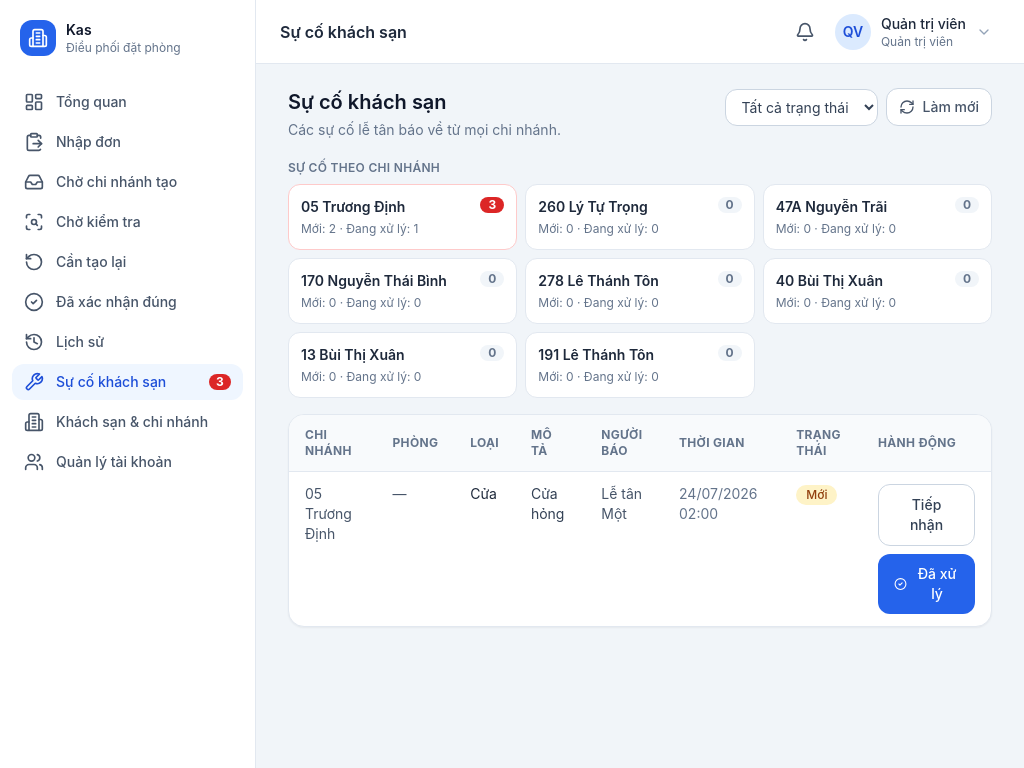
Test: Issue counters — admin branch cards + filter › clicking a branch card filters the list, and the filter can be cleared
The width and height of the screenshot is (1024, 768).
Click the button with aria-label "3 sự cố chưa xử lý tại 05 Trương Định" at (403, 217), box [288, 184, 517, 250]
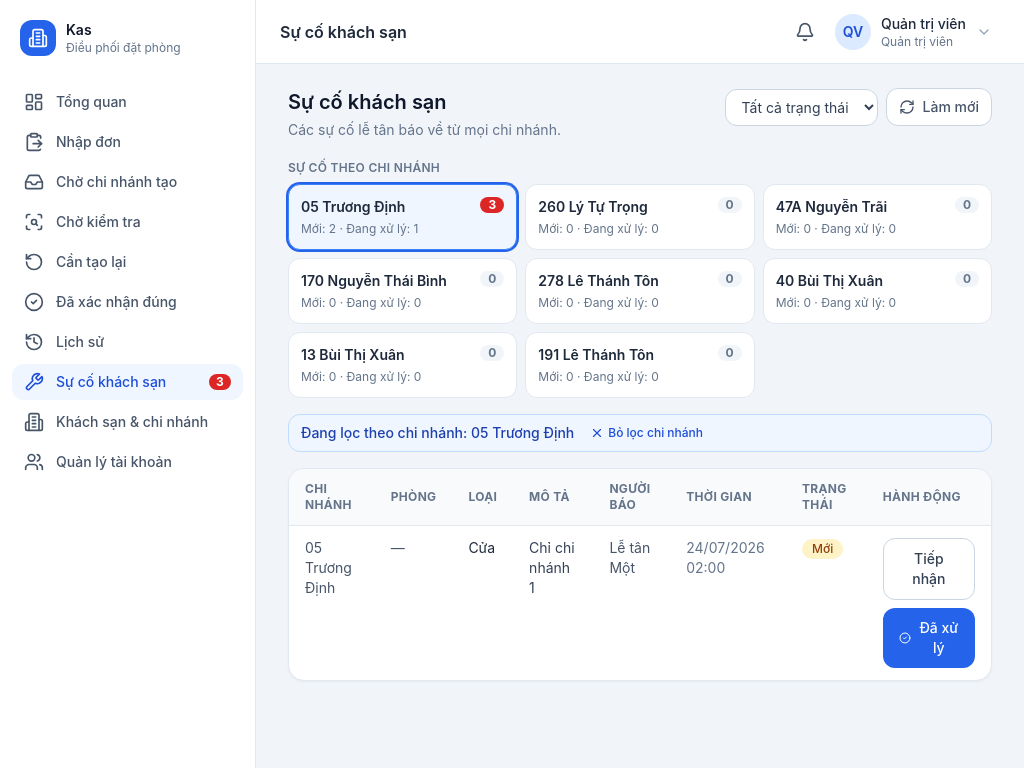
Check: the text "Đang lọc theo chi nhánh: 05 Trương Định" is shown, box [301, 423, 574, 443]
Check: the text "Chỉ chi nhánh 1" is shown, box [529, 538, 577, 598]
Click the button "Bỏ lọc chi nhánh" at (647, 433), box [582, 423, 711, 443]
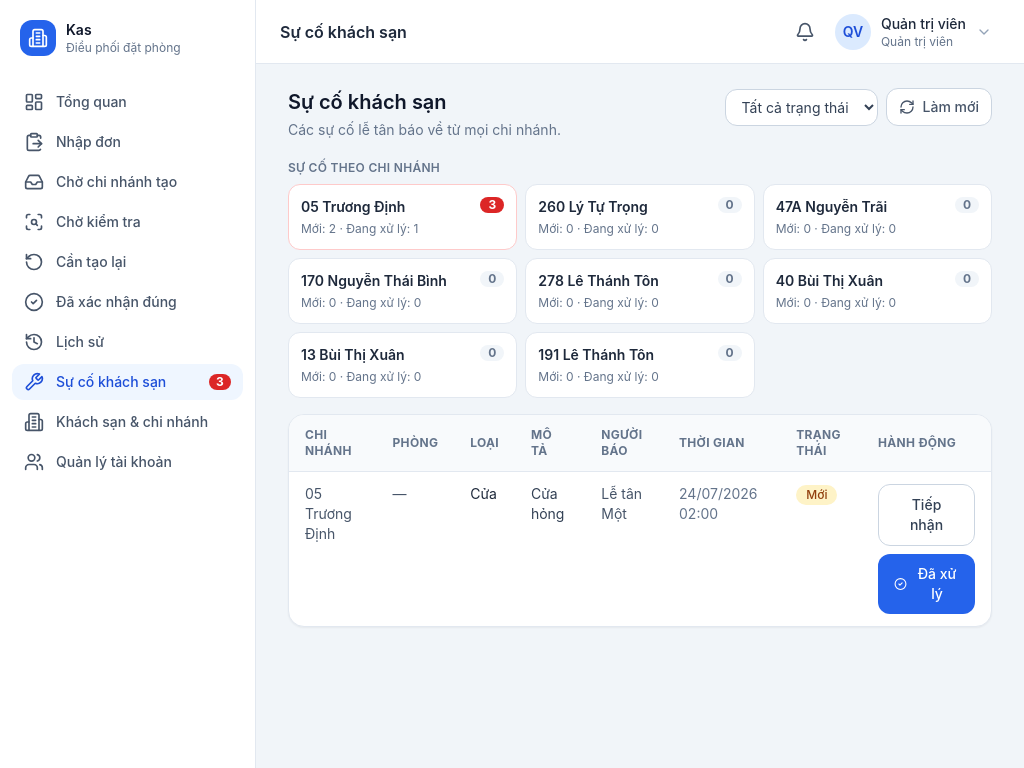
Check: the text "Đang lọc theo chi nhánh: 05 Trương Định" is gone
